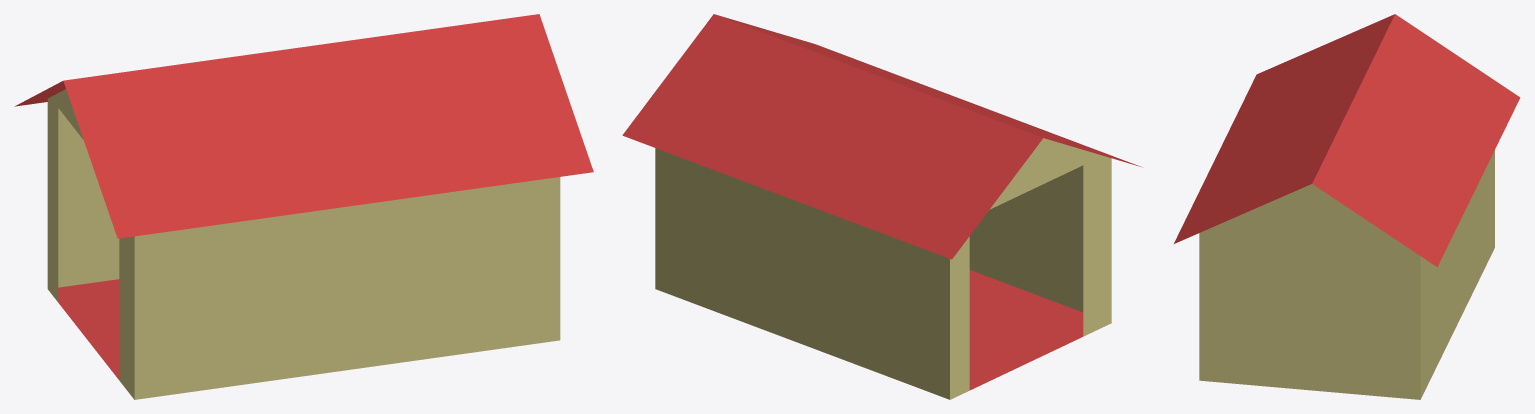
3 renders of one model, left to right at view 1: azimuth 30°, elevation 25°; view 2: azimuth 150°, elevation 25°; view 3: azimuth 270°, elevation 25°, orthographic. The views are drawn at different scales.
Bounding box in the file's own units: 15.74 × 11.97 × 8.22.
